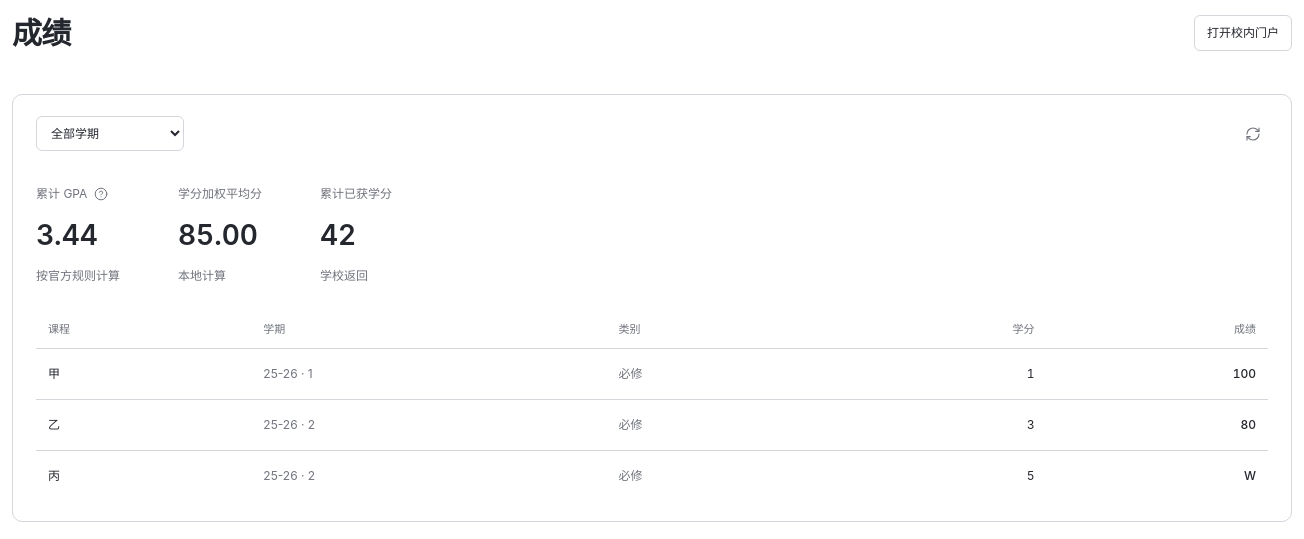
fills missing GPA and average, updates both for the semester, and keeps official earned credits
Expected: the text "3.44" is shown, [36,218,98,252]
Expected: the text "85.00" is shown, [178,218,258,252]
Select "25-26 学年第2学期" in the dropdown named "成绩学期". click: (110, 134)
box: [36,116,184,151]
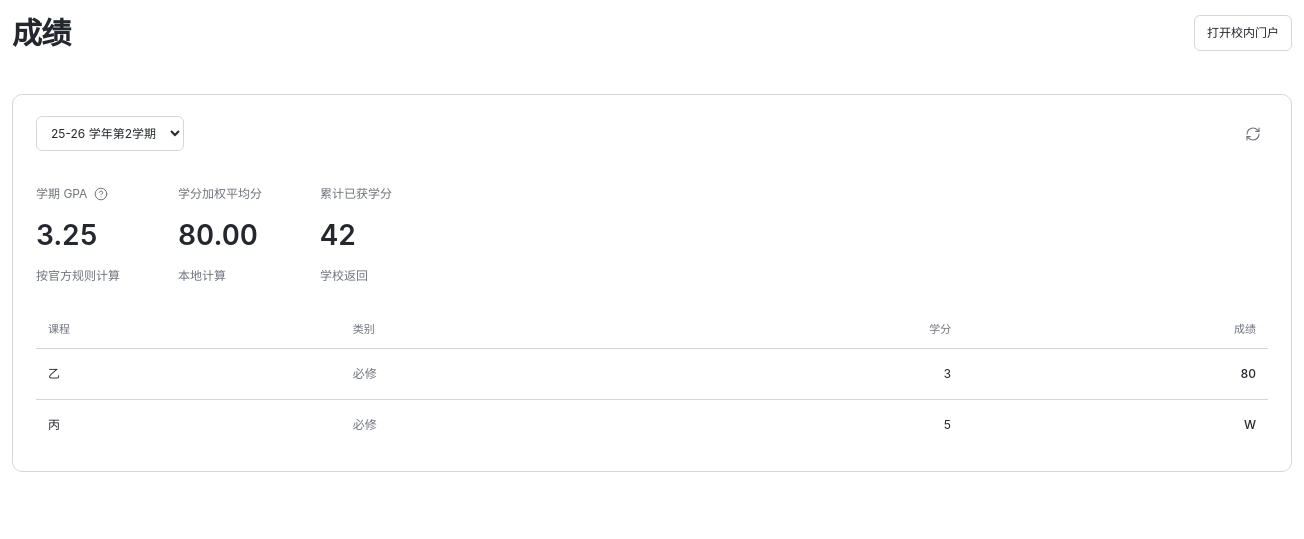
Result: the text "学期 GPA" is shown at [36,184,87,204]
Result: the text "3.25" is shown at [36,218,98,252]
Result: the text "80.00" is shown at [178,218,258,252]
